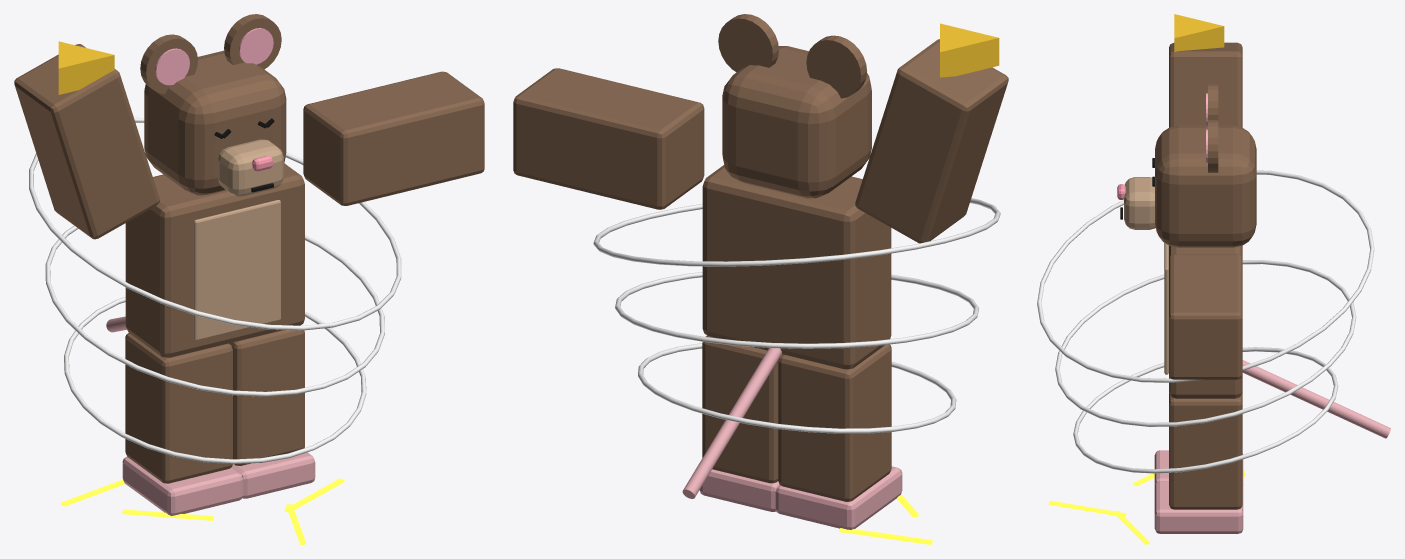
The model's file is 03_DancingRat.fbx.
3 views of the same model, side by side, from view 1: azimuth 30°, elevation 25°; view 2: azimuth 150°, elevation 25°; view 3: azimuth 270°, elevation 25° (orthographic). The views are drawn at different scales.
Visible parts, largest first — view 1: LeftArm, Torso, RightArm, AnimalHead, RightLeg, Belly, LeftLeg, RightShoe, FX_Spin2, FX_Spin1, FX_Spin0, Muzzle (+6 smaller); view 2: Torso, LeftArm, RightArm, AnimalHead, RightLeg, LeftLeg, RightShoe, FX_Spin1, FX_Spin2, FX_Spin0, Ear.001, Ear (+3 smaller); view 3: AnimalHead, LeftArm, LeftLeg, RightArm, FX_Spin2, FX_Spin1, LeftShoe, FX_Spin0, Torso, Tail, Muzzle, Cheese (+3 smaller).
Part boxes in pixels (x1=…): LeftArm: x1=303, y1=71, x2=484, y2=205; Torso: x1=125, y1=163, x2=304, y2=357; RightArm: x1=14, y1=44, x2=159, y2=239; AnimalHead: x1=144, y1=50, x2=286, y2=195; RightLeg: x1=125, y1=333, x2=232, y2=483; Belly: x1=193, y1=200, x2=280, y2=340; LeftLeg: x1=229, y1=330, x2=304, y2=465; RightShoe: x1=122, y1=457, x2=242, y2=515; FX_Spin2: x1=29, y1=117, x2=401, y2=330; FX_Spin1: x1=45, y1=225, x2=384, y2=396; FX_Spin0: x1=64, y1=297, x2=366, y2=464; Muzzle: x1=218, y1=139, x2=283, y2=196; Torso: x1=702, y1=165, x2=891, y2=369; LeftArm: x1=513, y1=68, x2=704, y2=209; RightArm: x1=855, y1=39, x2=1008, y2=243; AnimalHead: x1=722, y1=46, x2=871, y2=198; RightLeg: x1=778, y1=344, x2=891, y2=501; LeftLeg: x1=702, y1=335, x2=782, y2=483; RightShoe: x1=775, y1=466, x2=902, y2=529; FX_Spin1: x1=615, y1=272, x2=978, y2=348; FX_Spin2: x1=593, y1=198, x2=1000, y2=266; FX_Spin0: x1=638, y1=343, x2=956, y2=433; Ear.001: x1=806, y1=35, x2=866, y2=98; Ear: x1=718, y1=14, x2=778, y2=72; AnimalHead: x1=1155, y1=125, x2=1256, y2=247; LeftArm: x1=1169, y1=254, x2=1242, y2=379; LeftLeg: x1=1169, y1=392, x2=1242, y2=509; RightArm: x1=1169, y1=42, x2=1242, y2=127; FX_Spin2: x1=1037, y1=170, x2=1374, y2=382; FX_Spin1: x1=1055, y1=260, x2=1356, y2=426; LeftShoe: x1=1154, y1=481, x2=1243, y2=533; FX_Spin0: x1=1073, y1=347, x2=1338, y2=473; Torso: x1=1169, y1=245, x2=1242, y2=398; Tail: x1=1242, y1=360, x2=1390, y2=438; Muzzle: x1=1124, y1=177, x2=1155, y2=229; Cheese: x1=1174, y1=14, x2=1224, y2=51.
Size of the model in its own units: 601 by 619 by 479.
